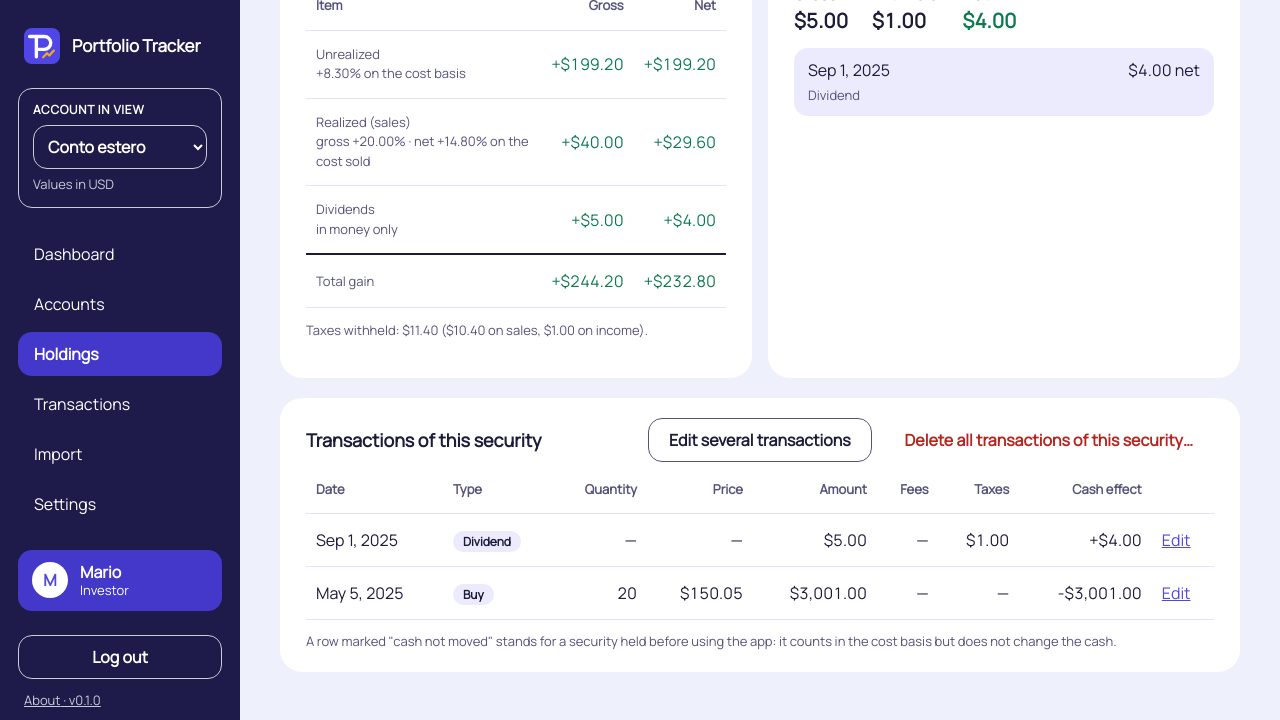
Test: holding detail (mockup 03 without the chart, D-146) › deletes every transaction of the security in the account in view (Q-12, D-146)
This screenshot has width=1280, height=720.
(page scrolled)
Click the button "Delete all transactions of this security…" at (1049, 440), box [884, 418, 1214, 462]
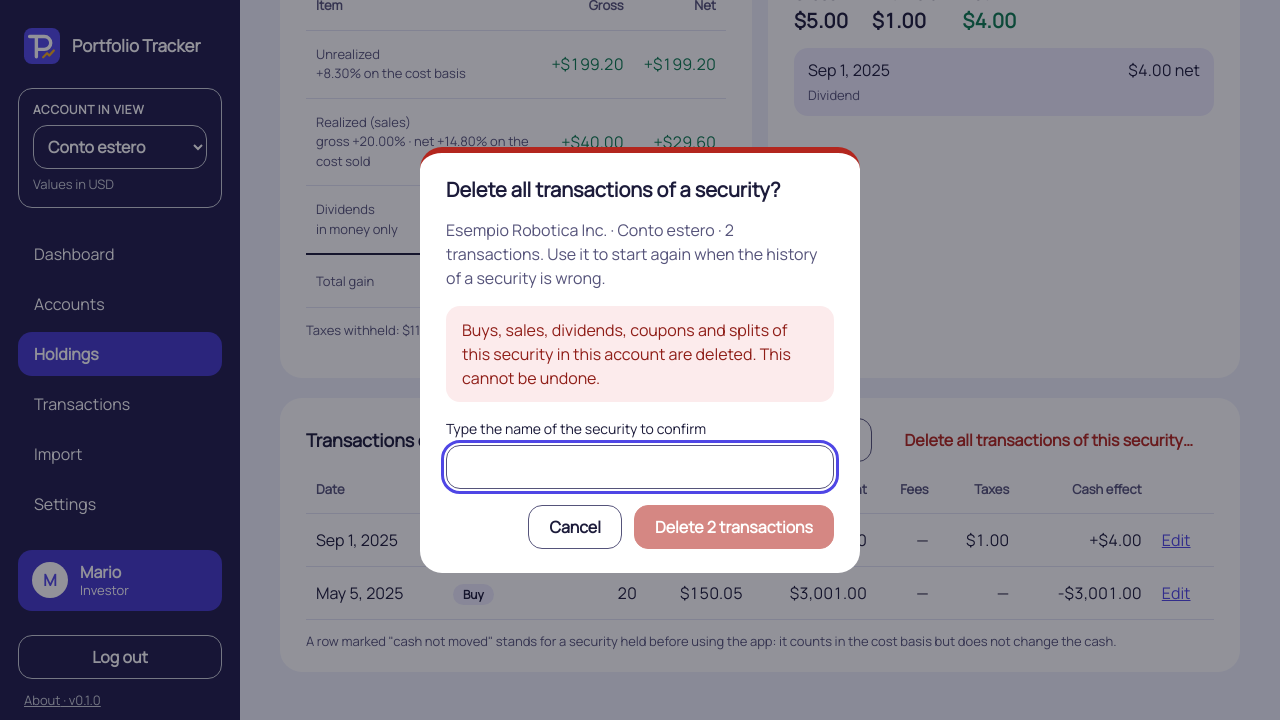
Result: the dialog "Delete all transactions of a security?" shows "Esempio Robotica Inc. · Conto estero · 2 transactions." at [446, 219, 818, 289]
Type "Esempio Robotica Inc." into the field labelled "Type the name of the security to confirm" at (640, 467), box [446, 445, 834, 489]
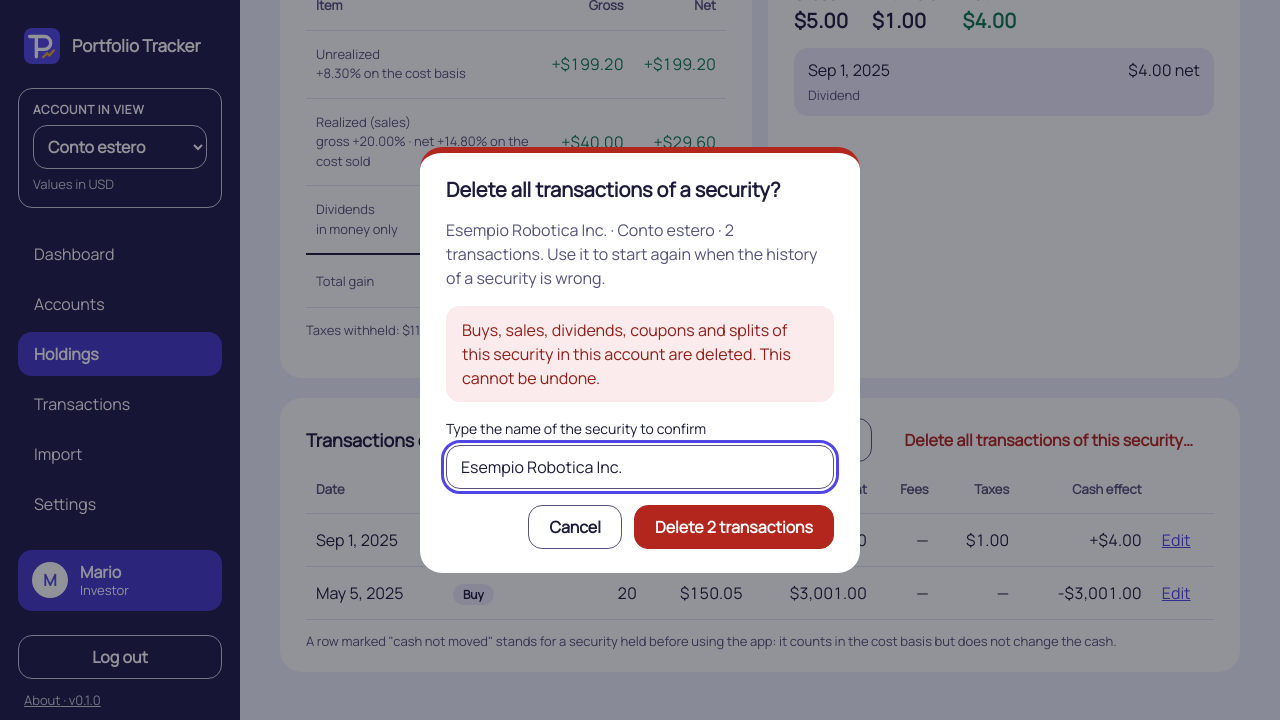
Click the button "Delete 2 transactions" at (734, 527), box [634, 505, 834, 549]
(page scrolled)
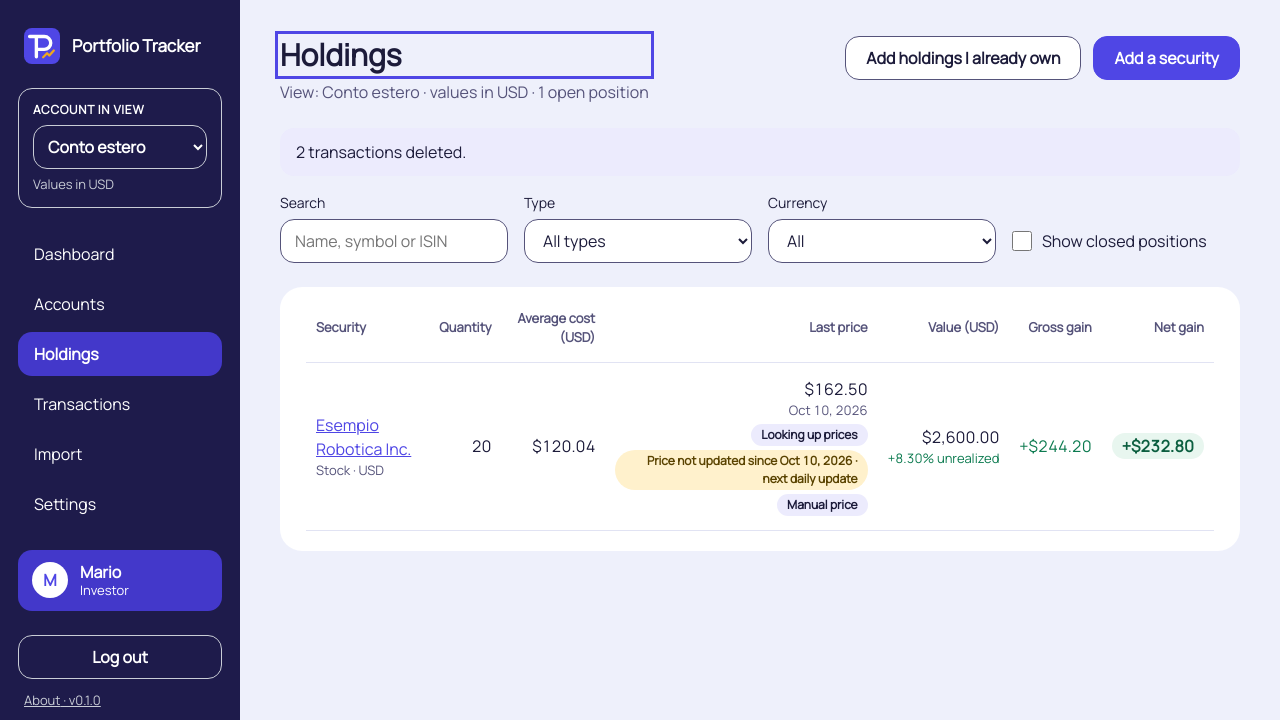
Result: the text "2 transactions deleted." is shown at [296, 140, 466, 162]
